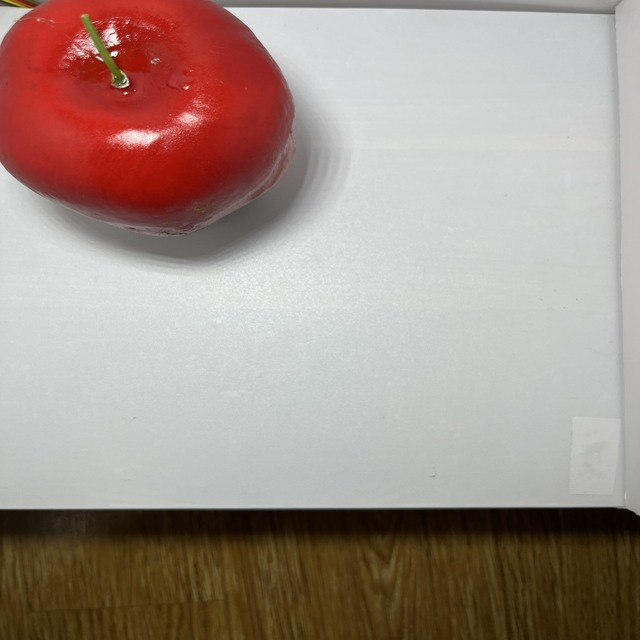Tao: (0, 0, 297, 247)
